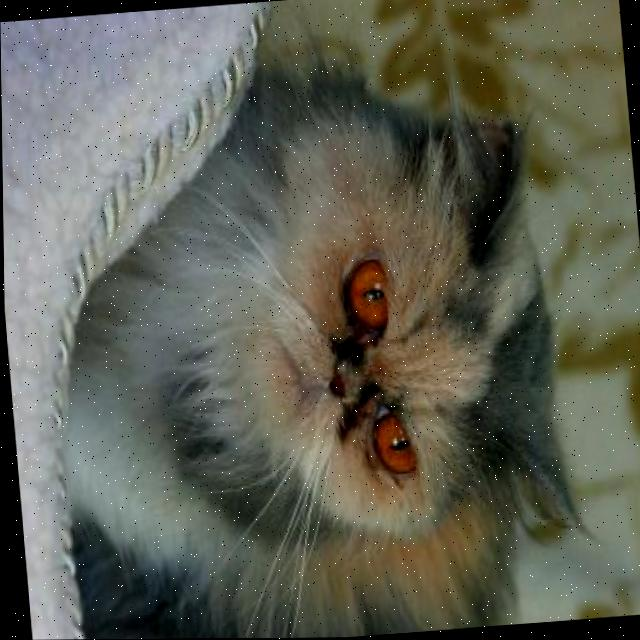Persian: (33, 35, 598, 640)
